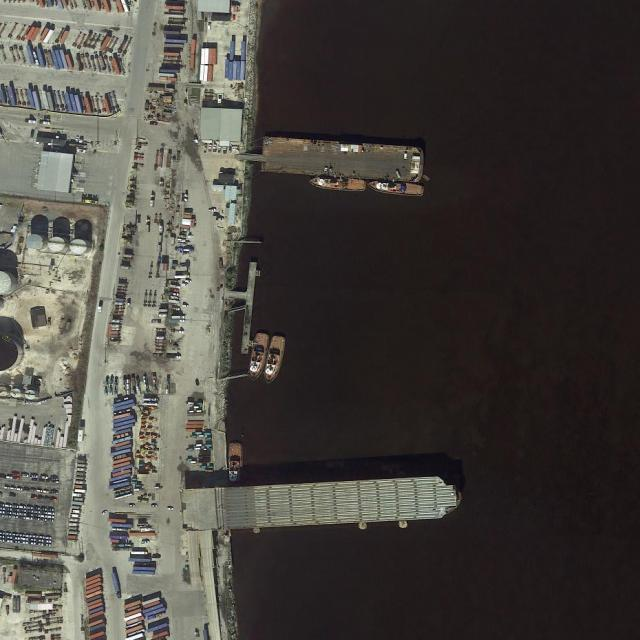Container Ship: (220, 474, 463, 529)
Dock: (242, 261, 257, 352)
Other Ship: (246, 332, 270, 381), (264, 335, 287, 385), (367, 180, 425, 198), (309, 174, 367, 192), (227, 442, 242, 483)
